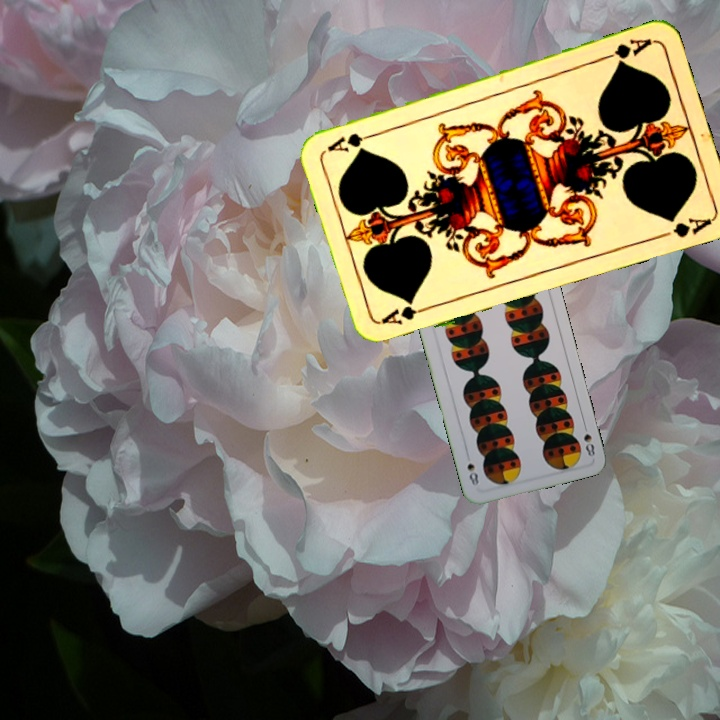GA: (597, 34, 655, 68), (377, 301, 436, 328)
S8: (579, 419, 598, 459)
